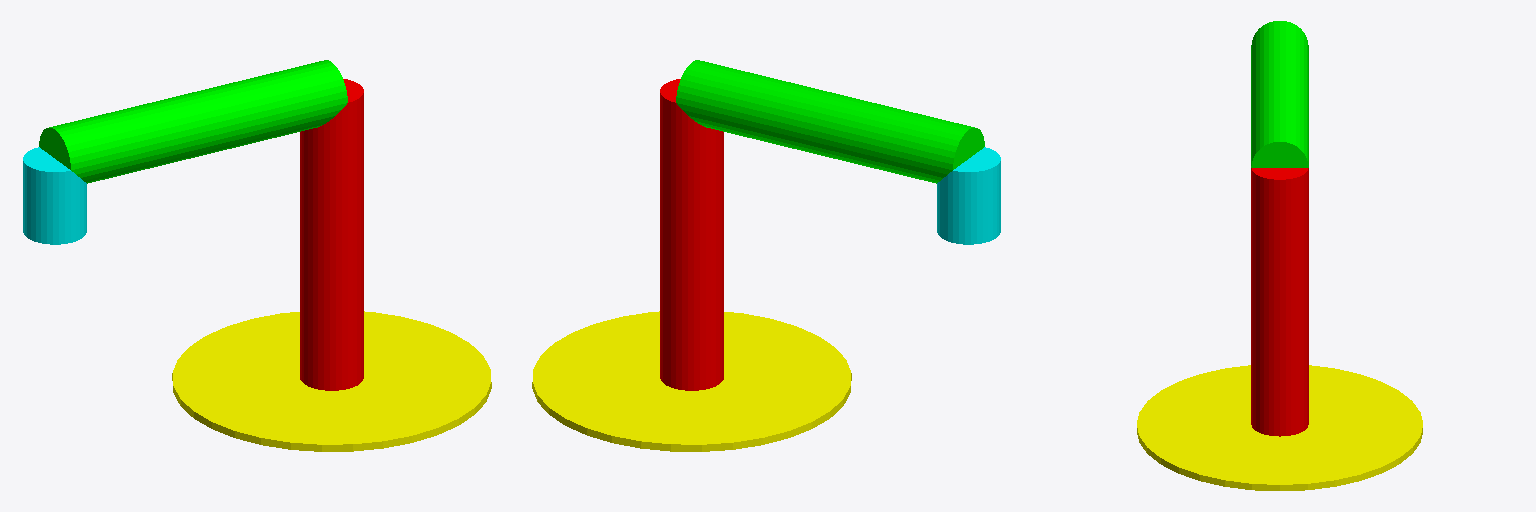
robot.urdf — simple_robot:
<robot name="simple_robot"> <!-- robot name- you decide -->
<!-- sequence : link-joint-link-joint-...-link... -->
<!-- units: meters for distance,rad in case of angles -->
<!-- first link called base_link -->
<link name= "base_link">
	<visual>
		<geometry>
			<cylinder length="0.01" radius="0.2"/>
		</geometry>
		<origin rpy="0 0 0" xyz="0 0 0"/> <!-- rpy: roll pitch yaw -> orientation xyz -> position --> 
		<material name= "base_color">
			<color rgba="1 1 0 1"/> 
		</material>
	</visual>

</link>
<!-- first joint-->
<joint name="joint1" type= "revolute"> <!-- types: revolute and prismatic -->
	<parent link="base_link"/>
	<child link="link1"/>
	<origin xyz ="0 0 0"/>
	<axis xyz="0 -1 0"/>
	<limit effort="300" velocity="0.1" lower="-3.14159" upper="3.14159"/>
	<dynamics damping="50" friction="1"/>

</joint>
<!-- link1-->
<link name= "link1">
	<visual>
		<geometry>
			<cylinder length="0.4" radius="0.04"/>
		</geometry>
		<origin rpy="0 0 0" xyz="0 0 0.2"/> <!-- rpy: roll pitch yaw -> orientation xyz -> position --> 
		<material name= "link1_color">
			<color rgba="1 0 0 1"/> 
		</material>
	</visual>

</link>


<!-- second joint-->
<joint name="joint2" type= "revolute"> <!-- types: revolute and prismatic -->
	<parent link="link1"/>
	<child link="link2"/>
	<origin xyz ="0 0 0.4"/> <!--changed-->
	<axis xyz="0 1 0"/>
	<limit effort="300" velocity="0.1" lower="-3.14159" upper="3.14159"/>
	<dynamics damping="50" friction="1"/>

</joint>
<!-- link2-->
<link name= "link2">
	<visual>
		<geometry>
			<cylinder length="0.4" radius="0.04"/>
		</geometry>
		<origin rpy="0 1.5707 0" xyz="-0.2 0 0"/> <!-- rpy: roll pitch yaw -> orientation xyz -> position --> 
		<material name= "link2_color">
			<color rgba="0 1 0 1"/> 
		</material>
	</visual>
</link>

<!-- third joint-->
<joint name="joint3" type= "revolute"> <!-- types: revolute and prismatic -->
	<parent link="link2"/>
	<child link="link3"/>
	<origin xyz ="-0.4 0 0"/> <!--respecto al anterior joint , changed-->
	<axis xyz="0 -1 0"/> <!---->
	<limit effort="300" velocity="0.1" lower="-3.14159" upper="3.14159"/>
	<dynamics damping="50" friction="1"/>

</joint>
<!-- link3-->
<link name= "link3">
	<visual>
		<geometry>
			<cylinder length="0.1" radius="0.04"/>
		</geometry>
		<origin rpy="0 0 0" xyz="0 0 -0.05"/> <!-- rpy: roll pitch yaw -> orientation xyz -> position --> 
		<material name= "link3_color">
			<color rgba="0 1 1 1"/> 
		</material>
	</visual>
</link>


<!-- 4 joint-->
<joint name="joint4" type= "fixed"> <!-- types: revolute and prismatic -->
	<parent link="link3"/>
	<child link="link4"/>
	<origin xyz ="0 0 -0.1"/> <!--respecto al anterior joint , changed-->
	<axis xyz="0 -1 0"/> <!---->
	<limit effort="300" velocity="0.1" lower="-3.14159" upper="3.14159"/>
	<dynamics damping="50" friction="1"/>
</joint>
<!-- link4-->
<link name= "link4">
	<visual>
		<geometry>
			<cylinder length="0" radius="0"/>
		</geometry>
		<origin rpy="0 1.5707 0" xyz="-0.05 0 0"/> <!-- rpy: roll pitch yaw -> orientation xyz -> position --> 
		<material name= "link3_color">
			<color rgba="0 1 1 1"/> 
		</material>
	</visual>
</link>

</robot>

--- Render facts (derived) ---
Views: 3 orthographic renders of the robot side by side, from view 1: azimuth 30°, elevation 25°; view 2: azimuth 150°, elevation 25°; view 3: azimuth 270°, elevation 25°.
Model simple_robot with 5 links and 4 joints (3 revolute, 1 fixed), rooted at base_link, posed every joint at zero.
Visible links, largest first — view 1: base_link, link2, link1, link3; view 2: base_link, link2, link1, link3; view 3: base_link, link1, link2.
Boxes of the visible links, box(x1,y1,x2,y2) form: base_link: box(172, 311, 491, 451); link2: box(39, 60, 347, 183); link1: box(300, 79, 363, 390); link3: box(23, 147, 86, 244); base_link: box(532, 311, 851, 451); link2: box(676, 60, 984, 183); link1: box(660, 79, 723, 390); link3: box(937, 147, 1000, 244); base_link: box(1137, 365, 1422, 490); link1: box(1251, 168, 1308, 436); link2: box(1251, 21, 1308, 167).
Bounding box of the posed robot: 0.65 × 0.4 × 0.445 m (x, y, z).
Geometry: primitives only (box / cylinder / sphere), no mesh files.
